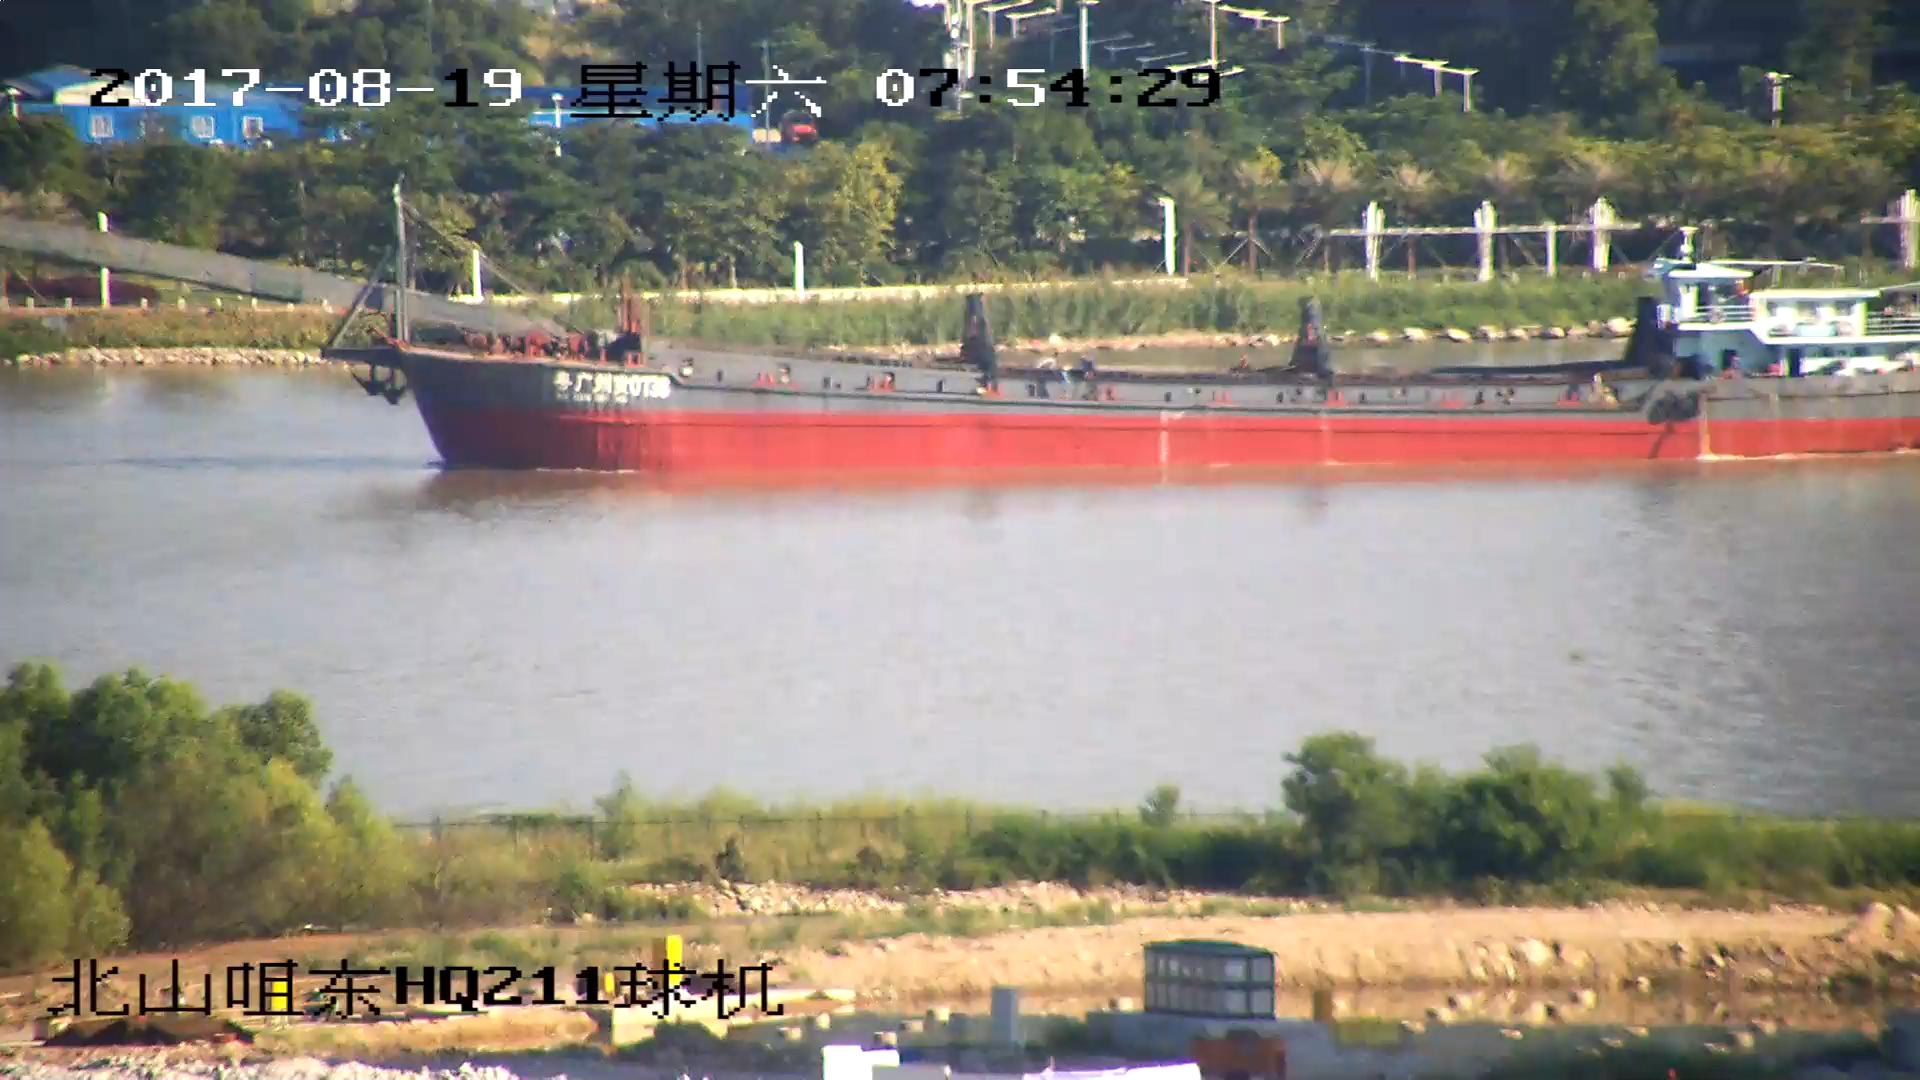bulk cargo carrier: (1, 202, 1920, 479)
